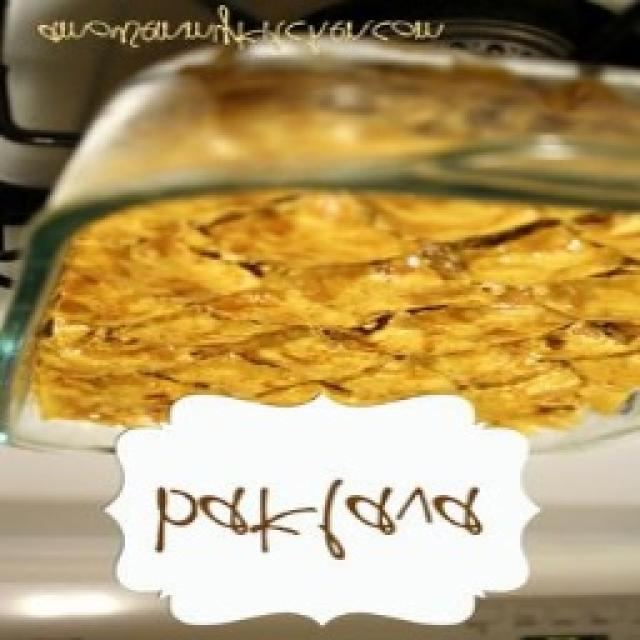Baklawa: (22, 45, 640, 440)
